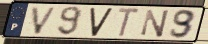9: (168, 9, 198, 40), (56, 5, 84, 37)
N: (140, 8, 171, 38)
T: (117, 6, 142, 39)
V: (30, 6, 59, 36), (89, 7, 115, 38)
